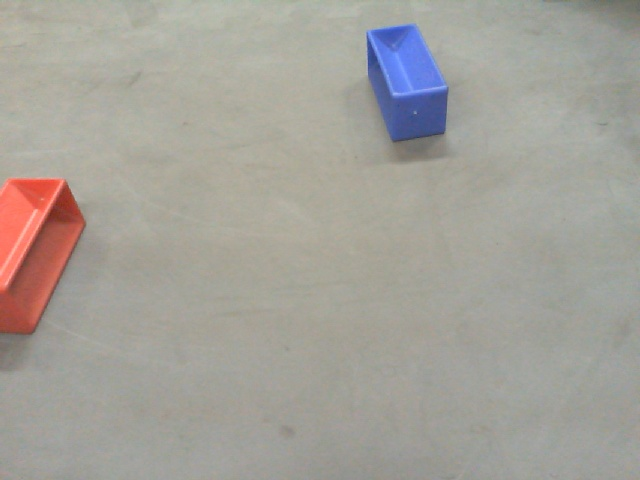BlueSample: (362, 16, 456, 145)
RedSample: (1, 174, 88, 342)
